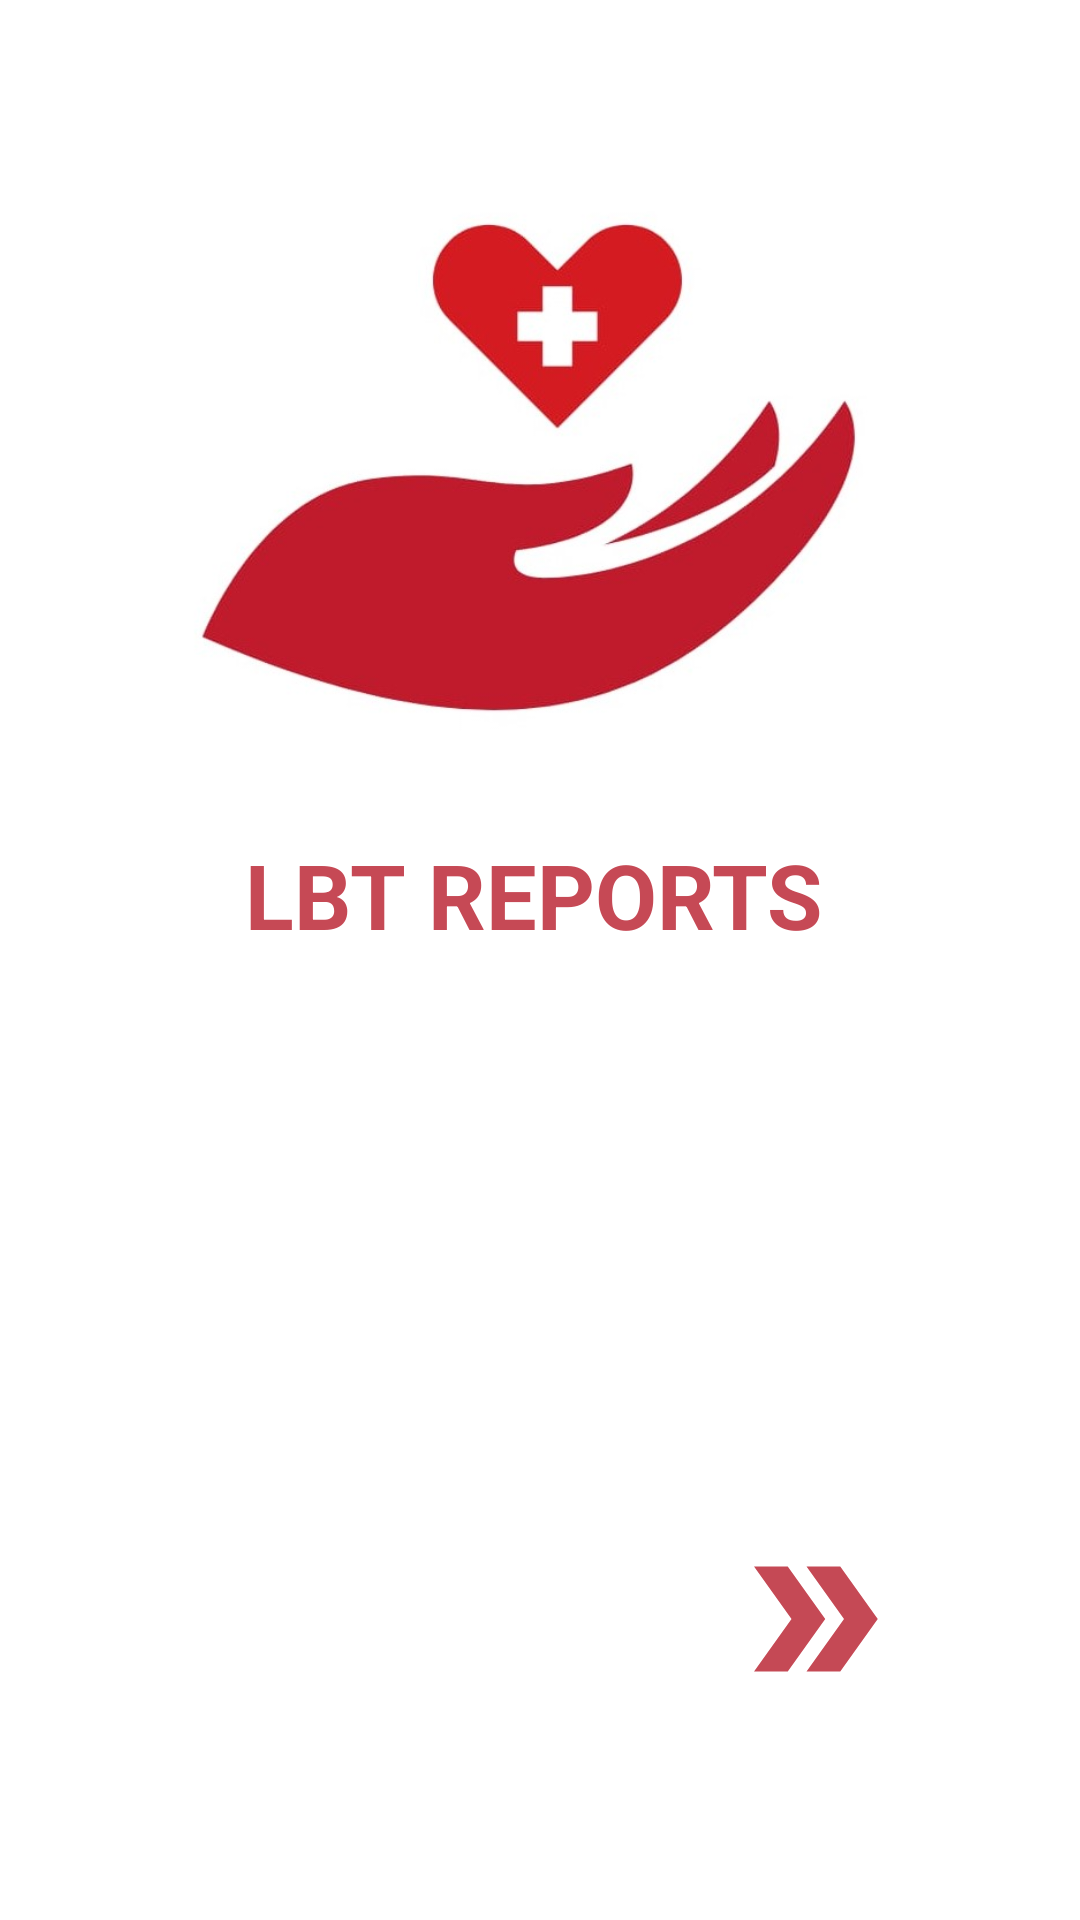

Point at icon controls on the screen. Image size 1080px×1920px, points as (x=x, y=y).
double arrow: (x=816, y=1619)
